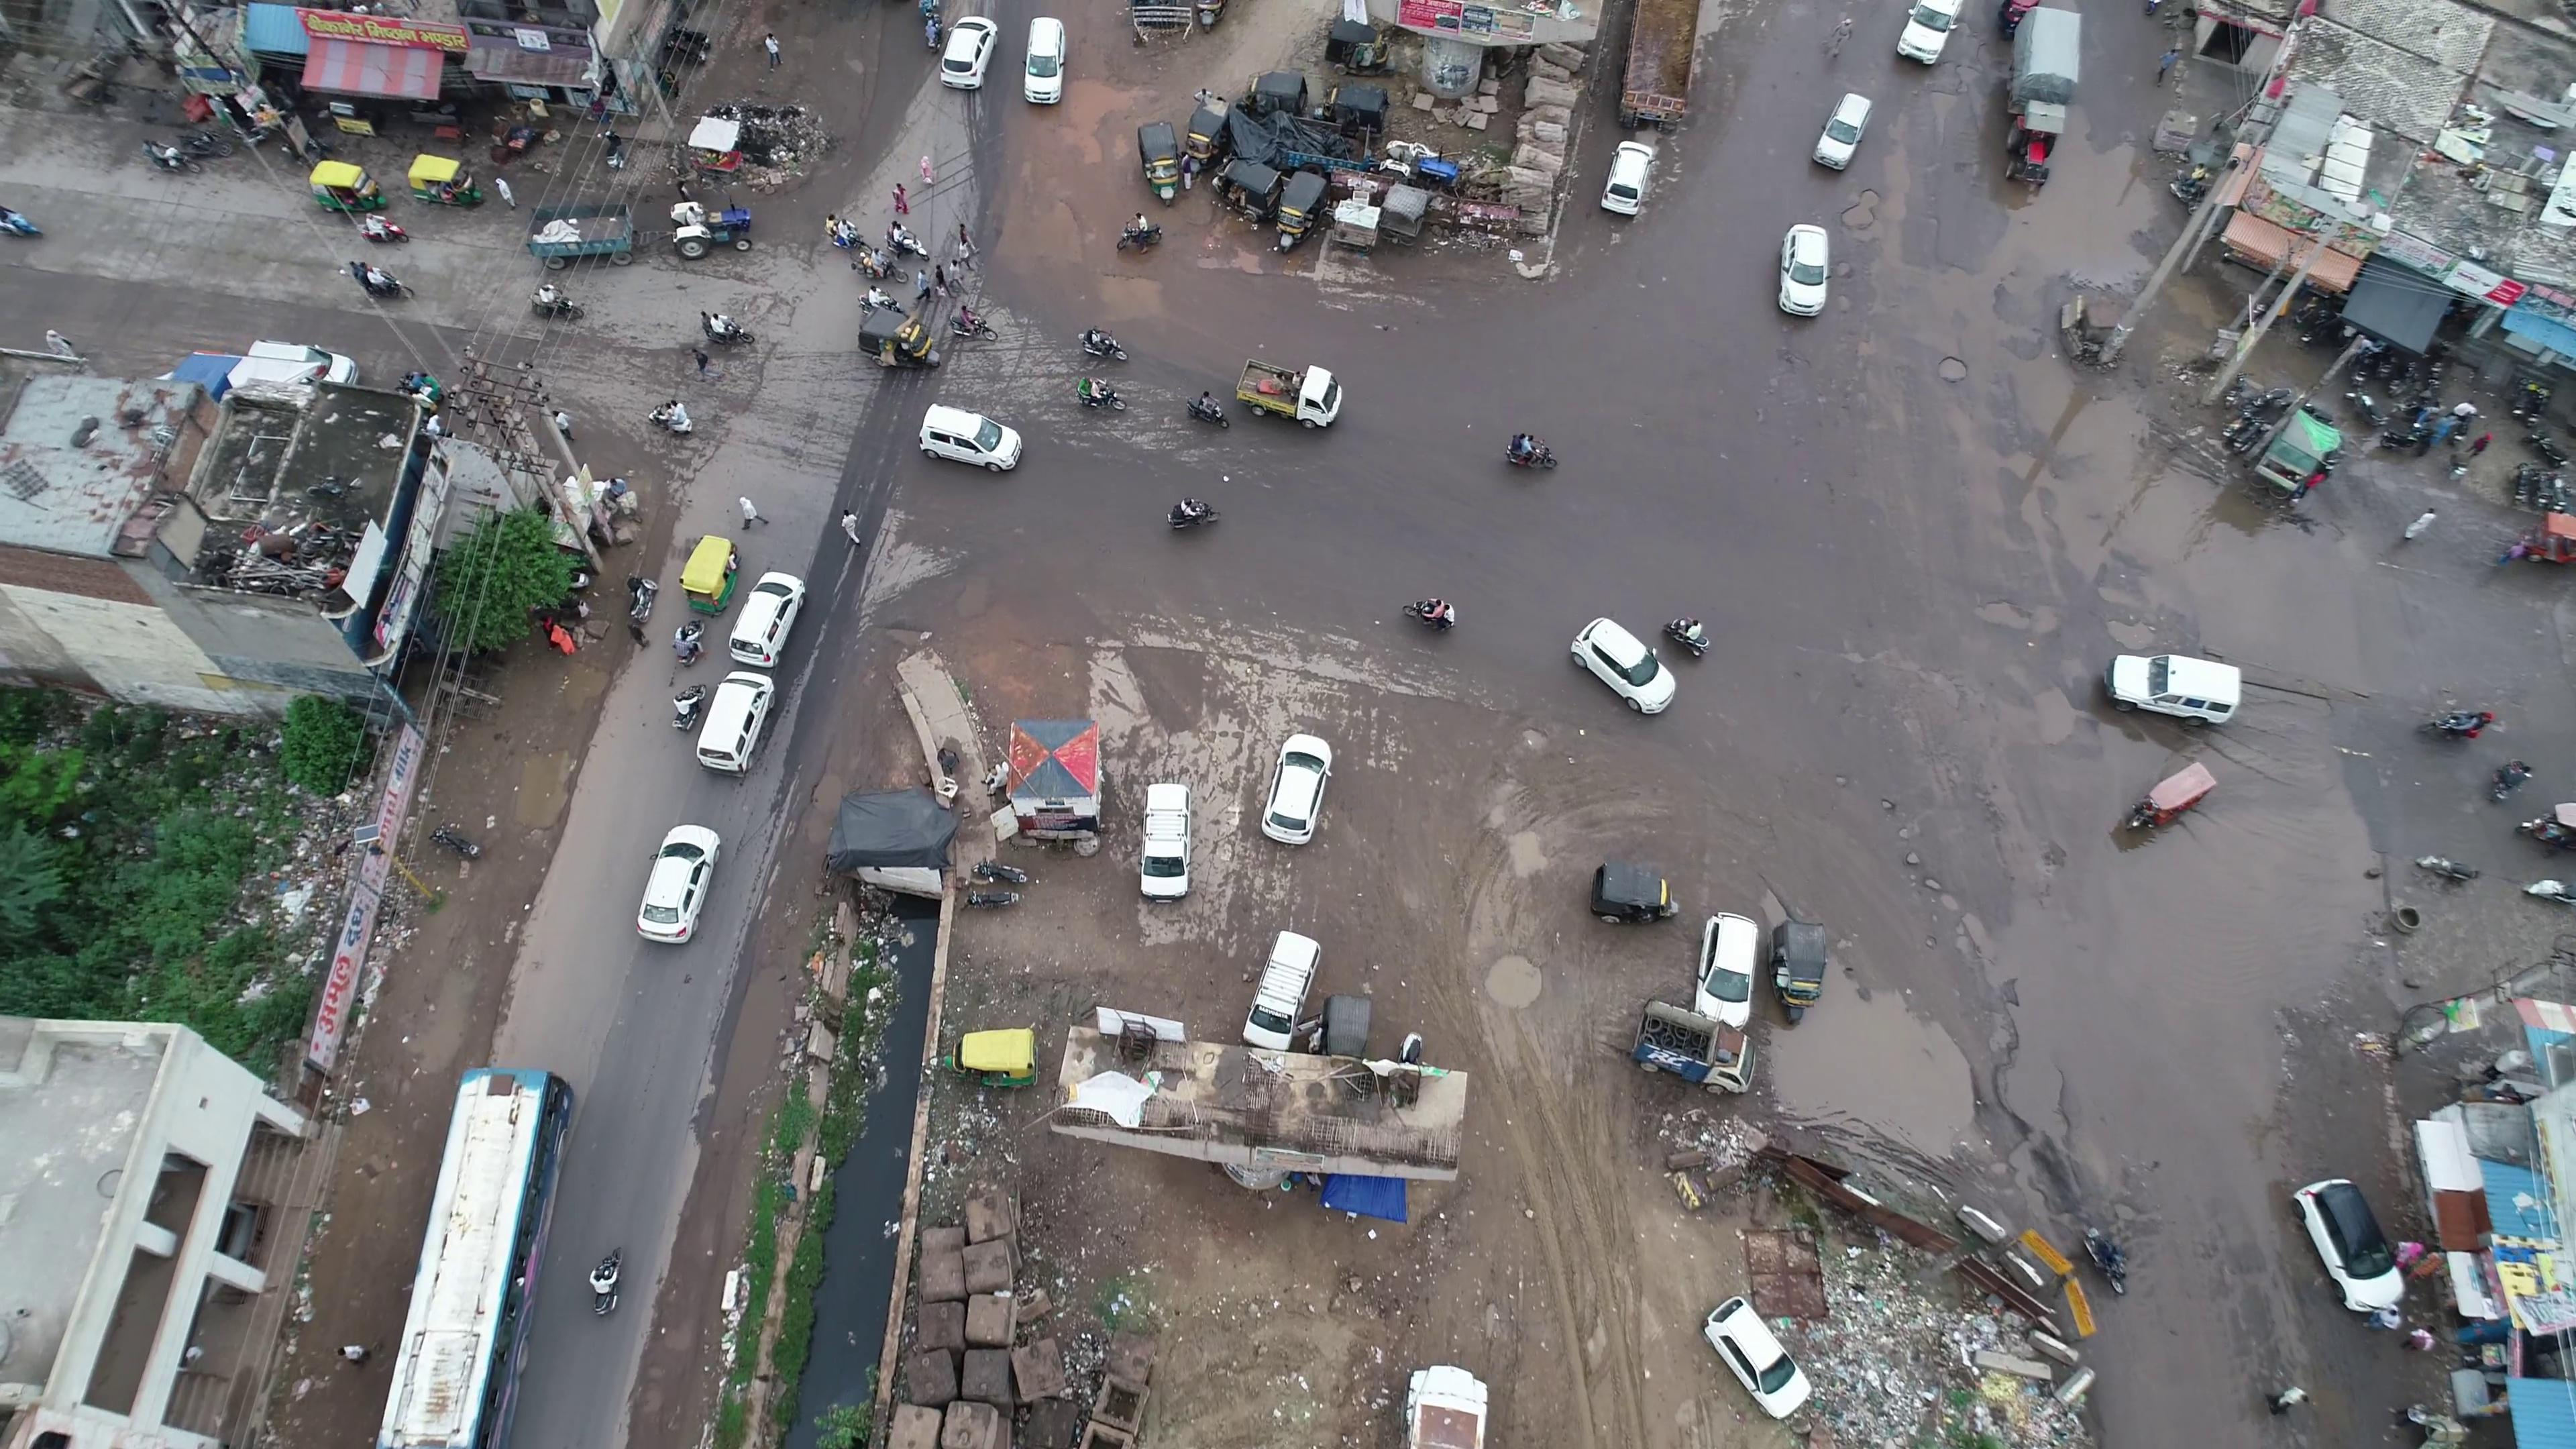Potholes: (1838, 775, 1976, 962), (1821, 180, 1913, 333), (2059, 566, 2164, 649), (1943, 580, 2054, 653), (1932, 341, 1992, 418)
Waterlogging: (2006, 127, 2169, 561)
